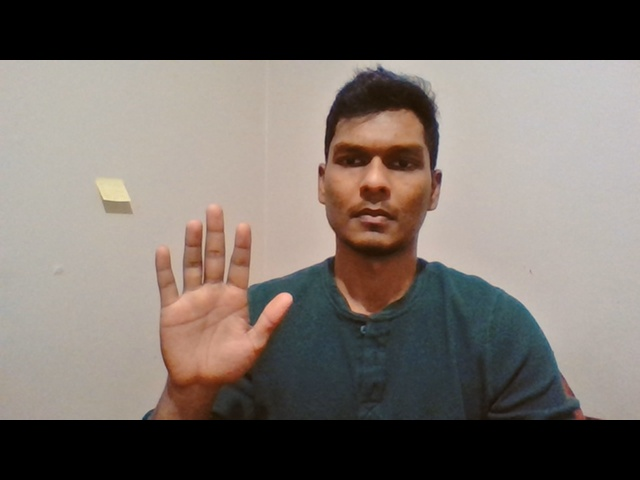Hello: (153, 202, 296, 389)
